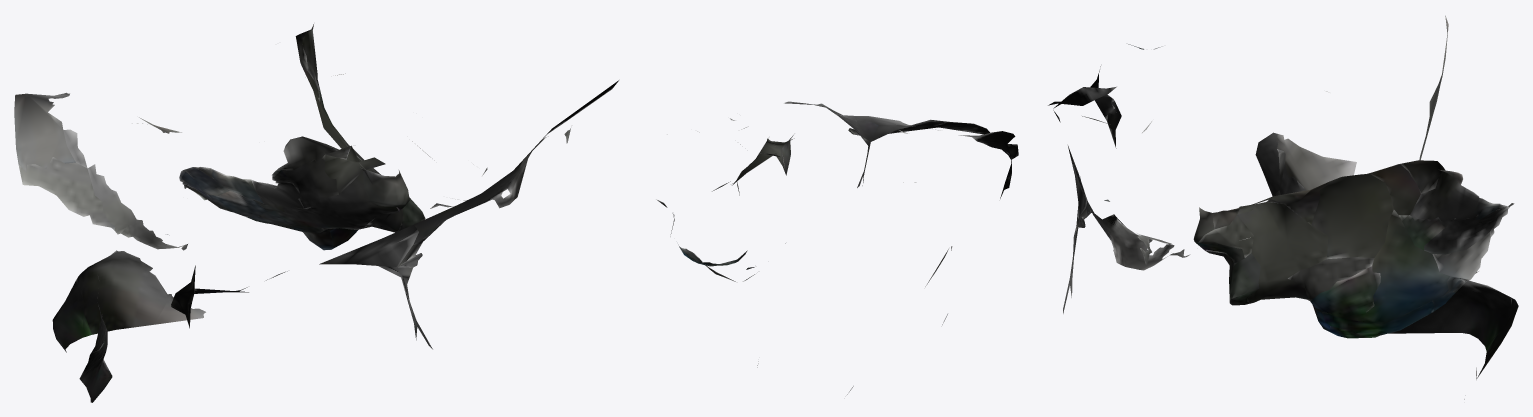
Rendered from hall.glb.
3 views of the same model, side by side, from view 1: azimuth 30°, elevation 25°; view 2: azimuth 150°, elevation 25°; view 3: azimuth 270°, elevation 25° (orthographic). The views are drawn at different scales.
Size of the model in its own units: 0.5163 by 0.3361 by 0.4582.
Materials: 1 (1 with a texture image).
